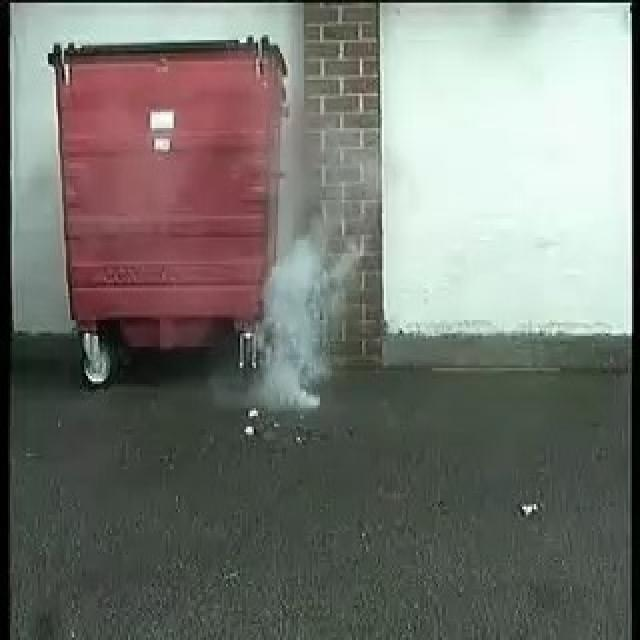smoke: (263, 228, 339, 409)
